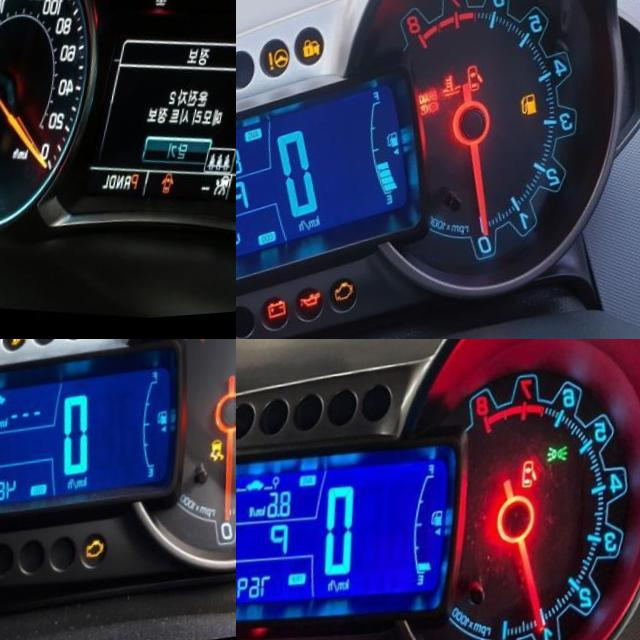Doors: (472, 68, 494, 99), (529, 465, 546, 494), (172, 176, 188, 198)
Engine cooling system: (445, 76, 472, 104)
Low fuel level: (526, 98, 547, 125)
SideLamp: (555, 450, 578, 470)
